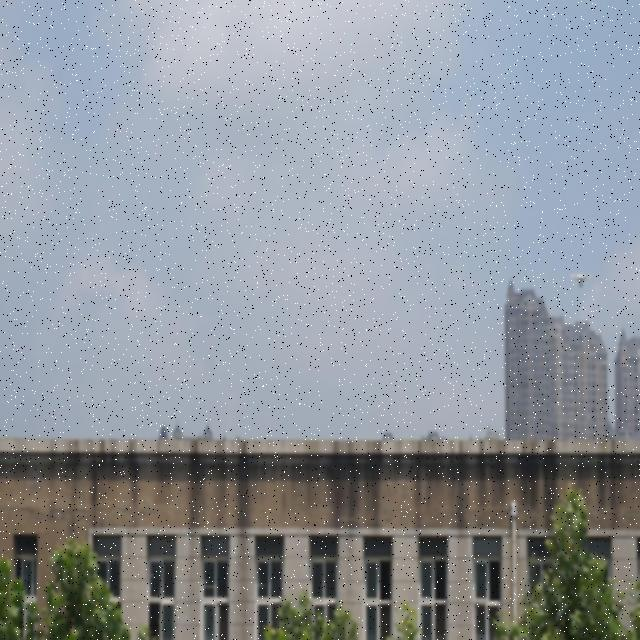UAV: (571, 273, 592, 288)
